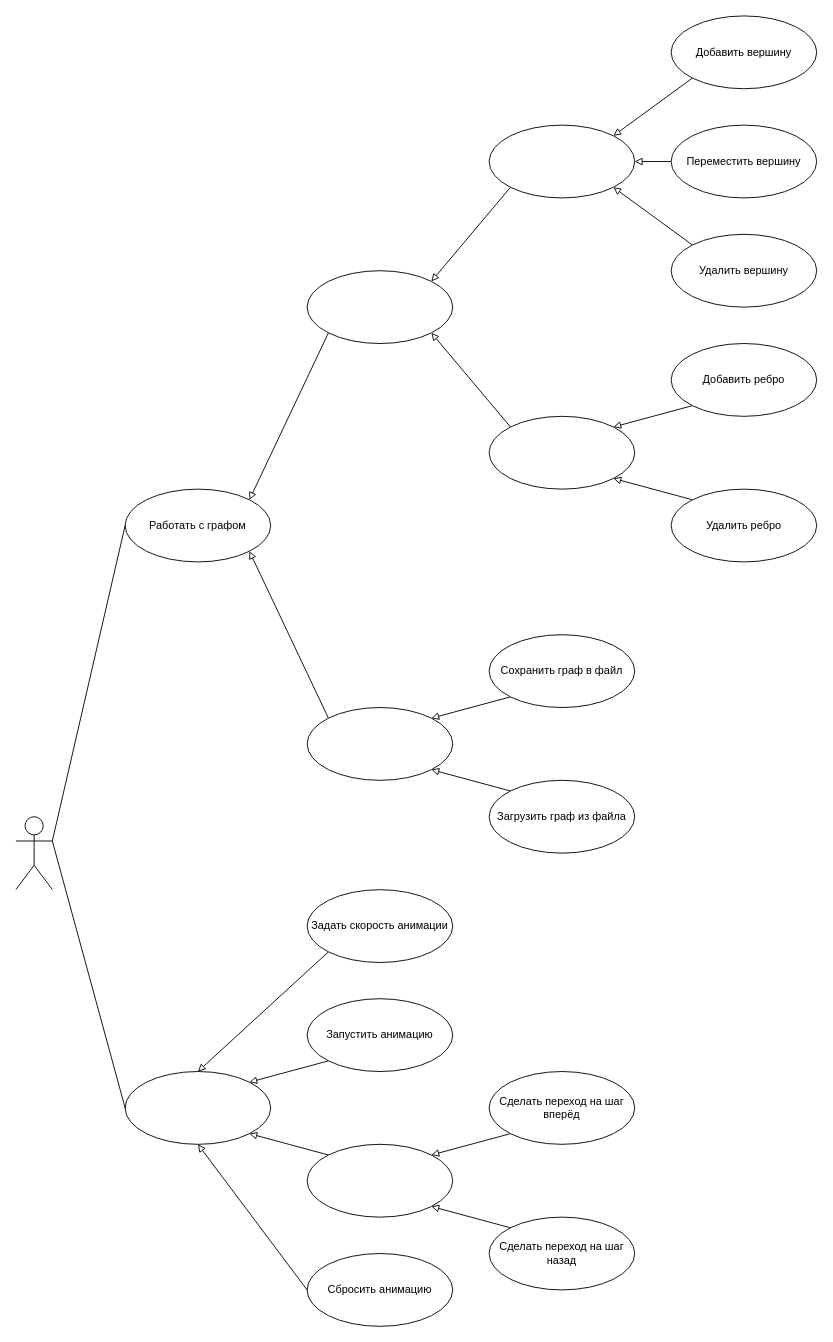
The diagram is 833 pixels wide and 1342 high, and some of its shapes have lost their labels. Each missing label, with the centre of its shape:
Actor: (x=33, y=853)
Остановить анимацию: (x=379, y=1180)
Работать вручную: (x=379, y=307)
Работать с анимацией: (x=197, y=1107)
Работать через файл: (x=379, y=743)
Редактировать вершины: (x=561, y=161)
Редактировать рёбра: (x=561, y=452)
